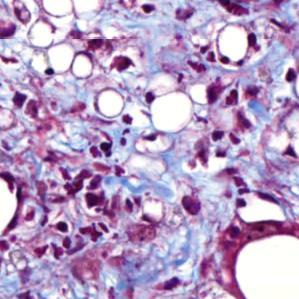steatosis: (96, 87, 125, 120)
